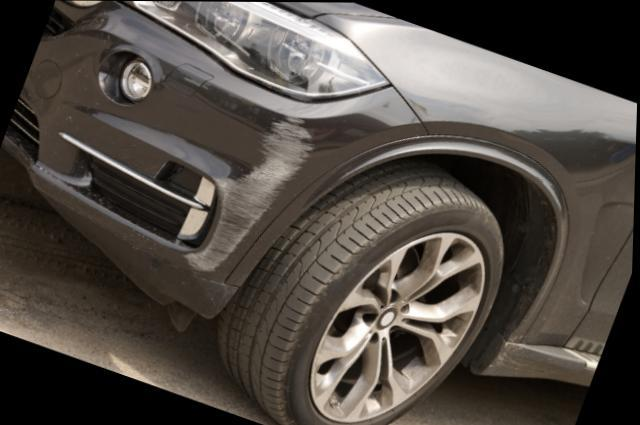scratch: (183, 106, 315, 272)
